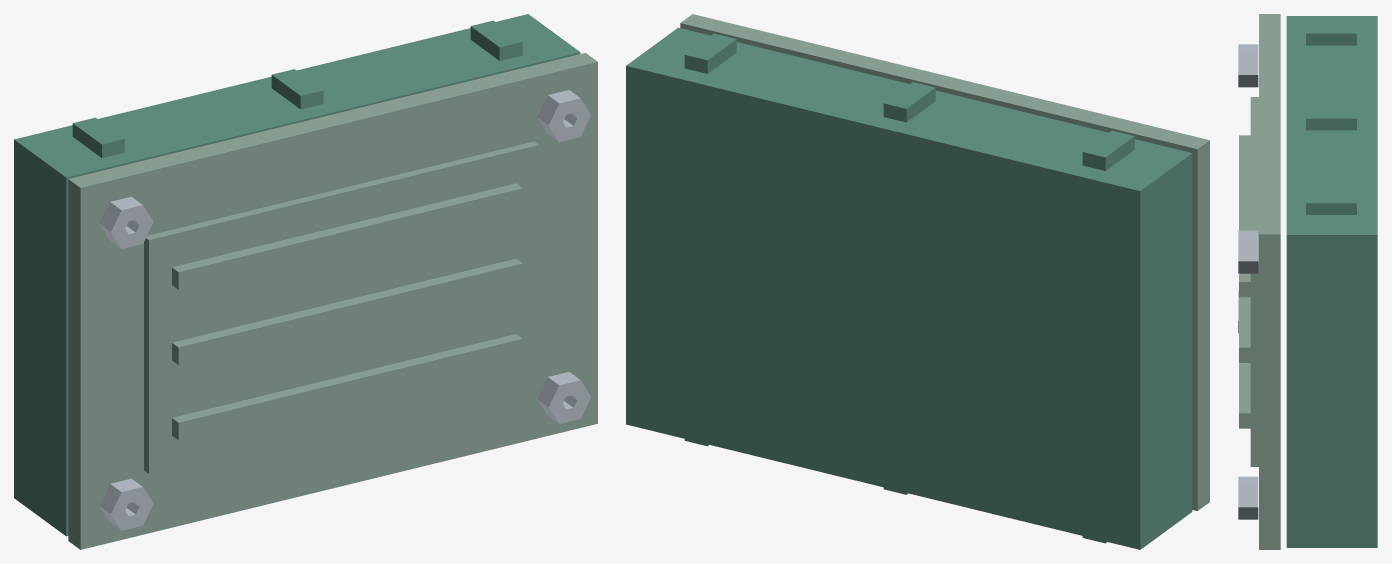
Rendered from MaintenanceGearboxAlt.glb.
3 renders of one model, left to right at view 1: azimuth 30°, elevation 25°; view 2: azimuth 150°, elevation 25°; view 3: azimuth 270°, elevation 25°, orthographic. The views are drawn at different scales.
Visible parts, largest first — view 1: cover, housing, bolt_fr, bolt_br, bolt_bl, bolt_fl; view 2: housing, cover; view 3: housing, cover, bolt_br, bolt_bl, bolt_fr.
Part boxes in pixels (bbox=[...]): cover: bbox=[68, 53, 597, 549]; housing: bbox=[14, 14, 580, 536]; bolt_fr: bbox=[537, 372, 591, 423]; bolt_br: bbox=[537, 90, 591, 142]; bolt_bl: bbox=[99, 196, 153, 248]; bolt_fl: bbox=[99, 478, 153, 530]; housing: bbox=[626, 27, 1192, 549]; cover: bbox=[680, 14, 1209, 510]; housing: bbox=[1286, 16, 1377, 547]; cover: bbox=[1239, 14, 1280, 549]; bolt_br: bbox=[1238, 230, 1258, 273]; bolt_bl: bbox=[1238, 44, 1258, 87]; bolt_fr: bbox=[1238, 476, 1258, 519].
Bounding box in the file's own units: 3.38 × 2.41 × 0.905.
